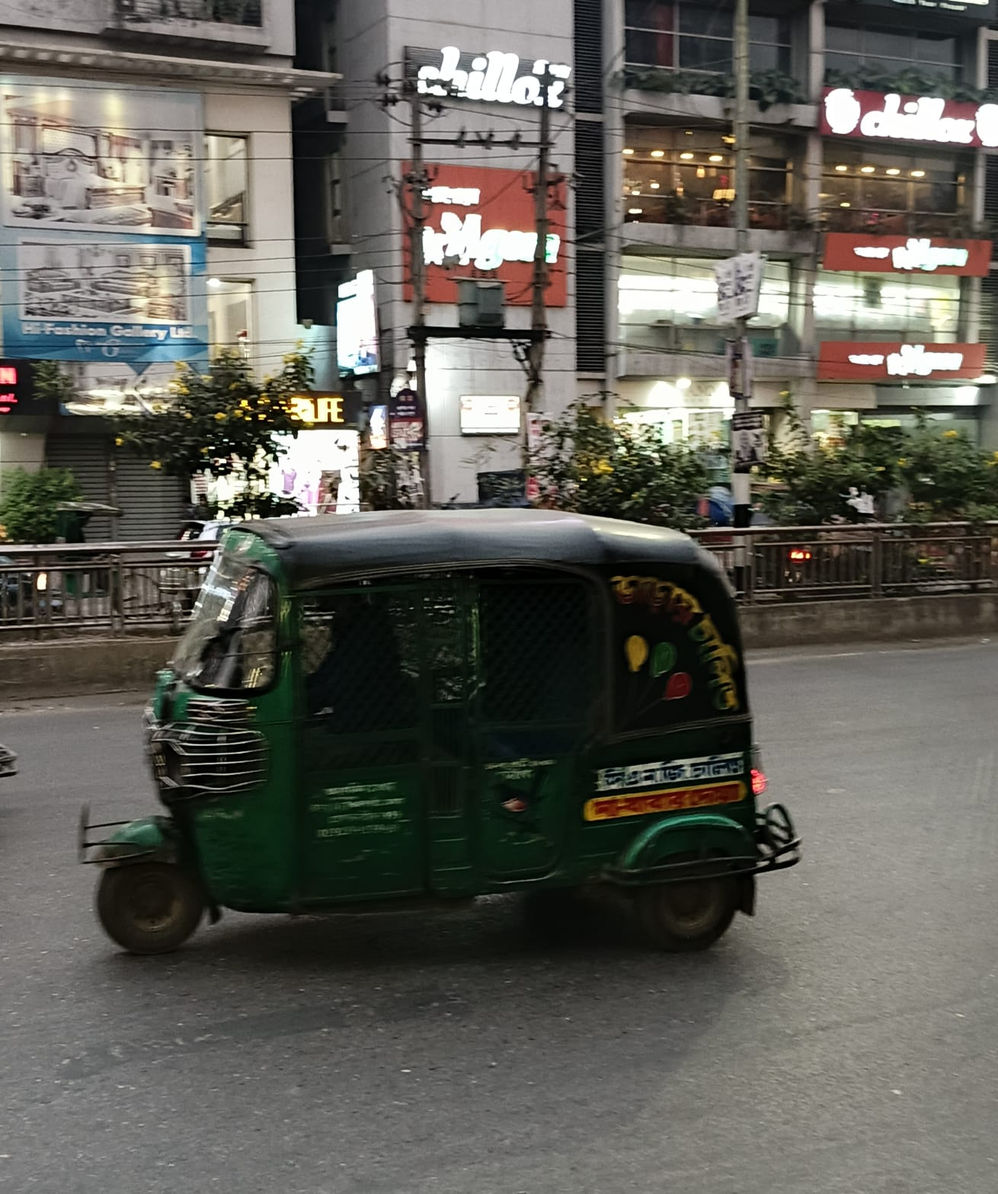cng: (81, 491, 888, 1024)
